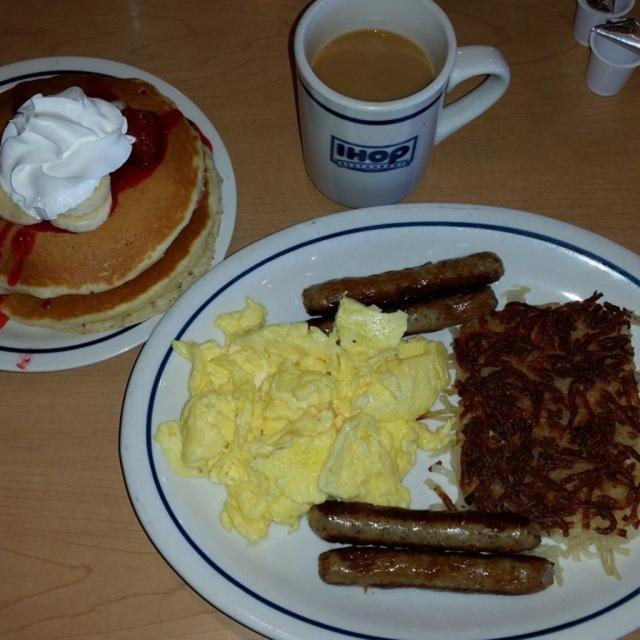Tea: (285, 1, 497, 205), (311, 24, 436, 101)
